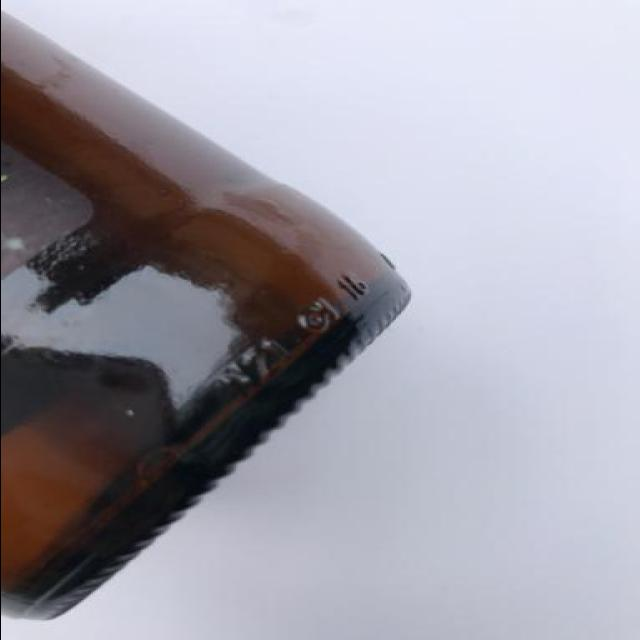Glass Bottle: (3, 4, 417, 618)
